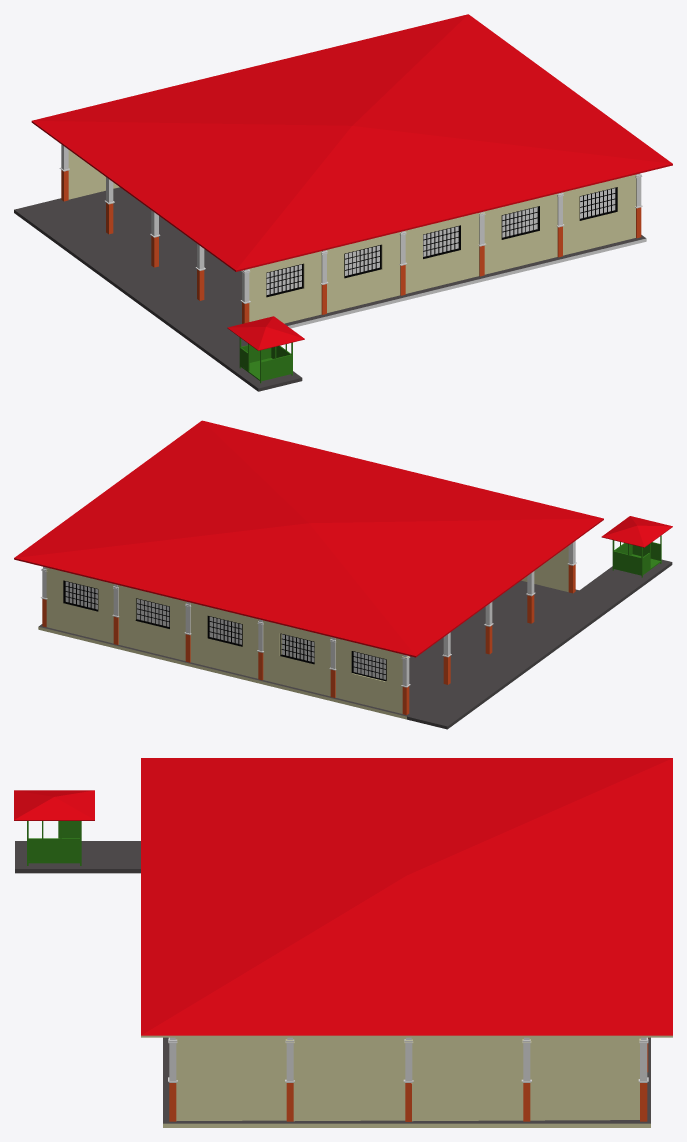
File: gate4.fbx
The picture shows the model from 3 angles, top to bottom: view 1: azimuth 30°, elevation 25°; view 2: azimuth 150°, elevation 25°; view 3: azimuth 270°, elevation 25°; orthographic projection. The views are drawn at different scales.
Visible parts, largest first — view 1: Cube.002, Cube, Cube.003, Cube.001, Cube.004; view 2: Cube.002, Cube, Cube.003, Cube.001, Cube.004; view 3: Cube.002, Cube, Cube.003, Cube.004, Cube.001.
Boxes of the visible parts, box(x1,y1,x2,y2) form: Cube.002: box(31, 14, 672, 328); Cube: box(14, 199, 302, 391); Cube.003: box(58, 187, 645, 326); Cube.001: box(239, 337, 292, 383); Cube.004: box(227, 316, 304, 350); Cube.002: box(14, 420, 603, 719); Cube: box(407, 559, 672, 729); Cube.003: box(39, 580, 578, 716); Cube.001: box(612, 535, 661, 577); Cube.004: box(601, 516, 672, 547); Cube.002: box(141, 758, 672, 1127); Cube: box(15, 841, 140, 873); Cube.003: box(163, 1037, 650, 1123); Cube.004: box(14, 790, 94, 820); Cube.001: box(27, 821, 81, 865).
Size of the model in its own units: 29537 by 5851 by 27949.
